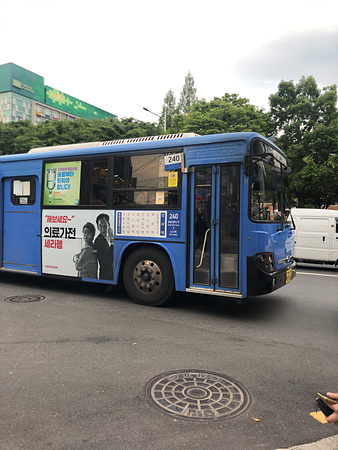entrance: (189, 159, 240, 296)
